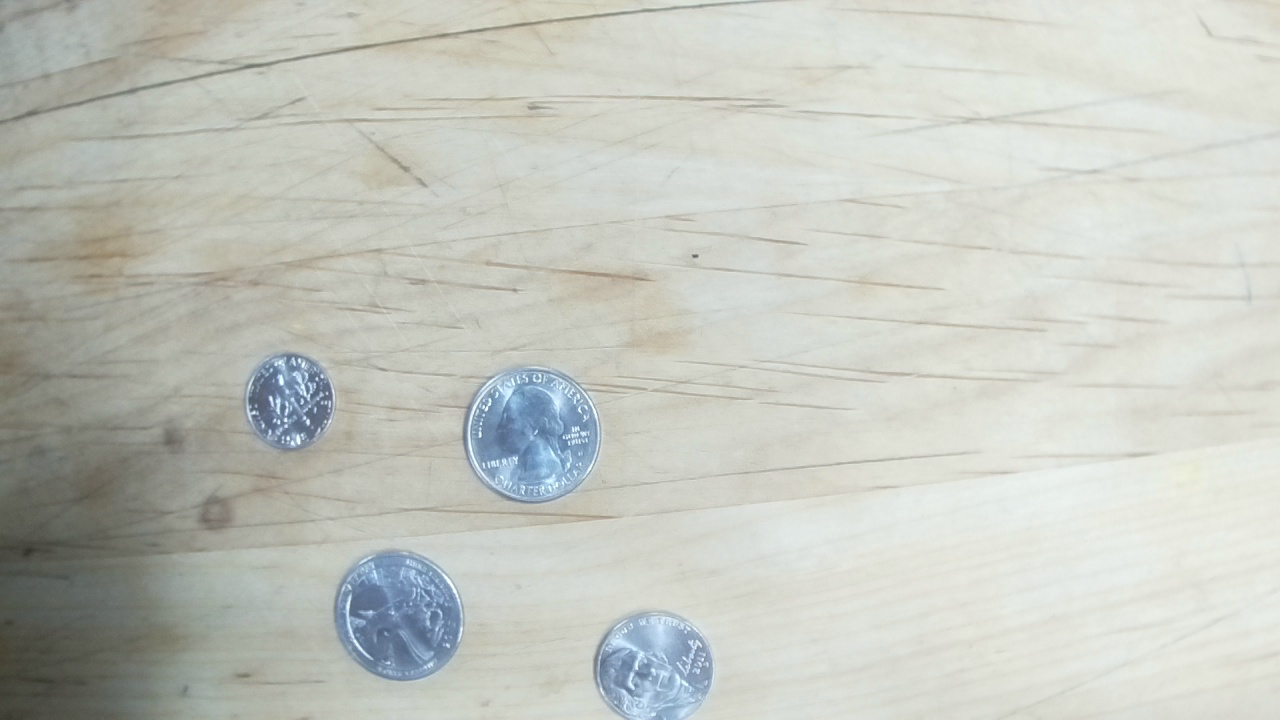dime: (245, 349, 336, 451)
nickel: (594, 610, 717, 720)
quarter: (464, 366, 602, 504), (333, 547, 464, 681)
